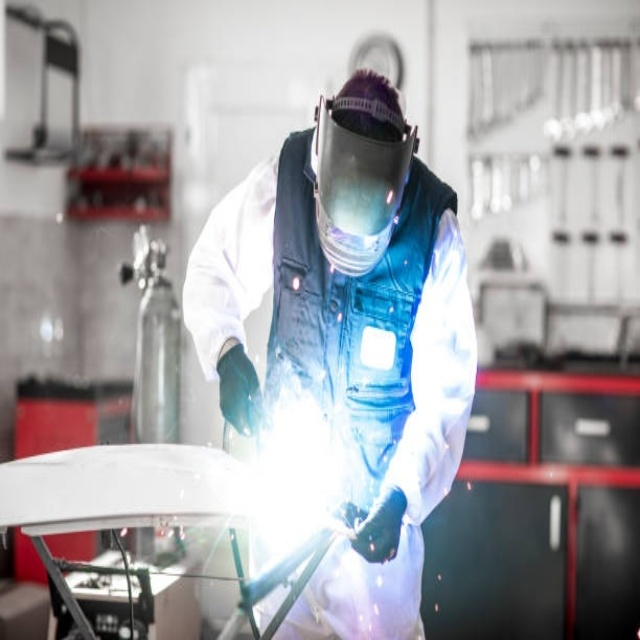Guantes: (351, 485, 408, 564), (217, 343, 262, 440)
